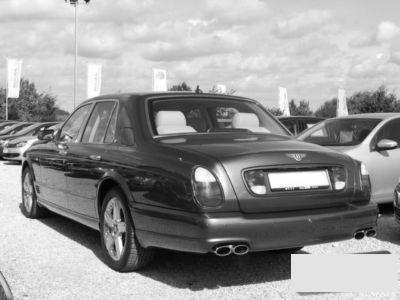car: (17, 92, 377, 274)
